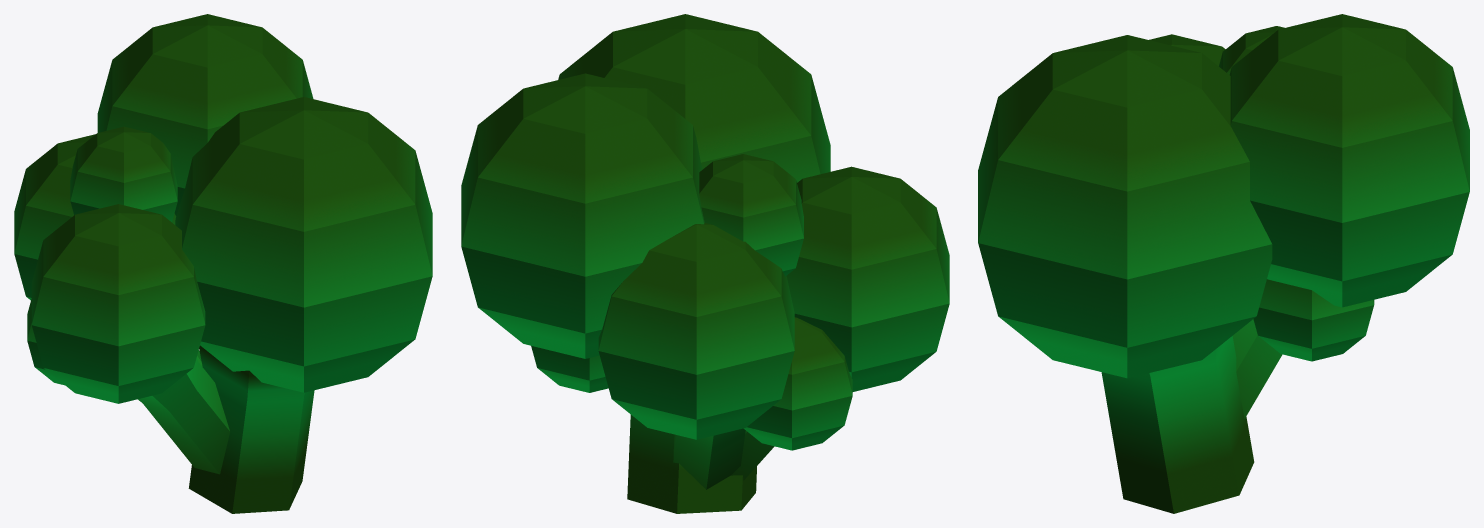
Rendered from r3-brockli.fbx.
3 views of the same model, side by side, from view 1: azimuth 30°, elevation 25°; view 2: azimuth 150°, elevation 25°; view 3: azimuth 270°, elevation 25° (orthographic). The views are drawn at different scales.
Parts seen in each view (by area): view 1: pSphere8; view 2: pSphere8; view 3: pSphere8.
Boxes of the visible parts, left/top/right/bottom form: pSphere8: left=14, top=14, right=432, bottom=513; pSphere8: left=461, top=14, right=949, bottom=513; pSphere8: left=978, top=14, right=1469, bottom=513.
Size of the model in its own units: 4.89 by 5.05 by 4.7.
Materials: 1 (1 with a texture image).
